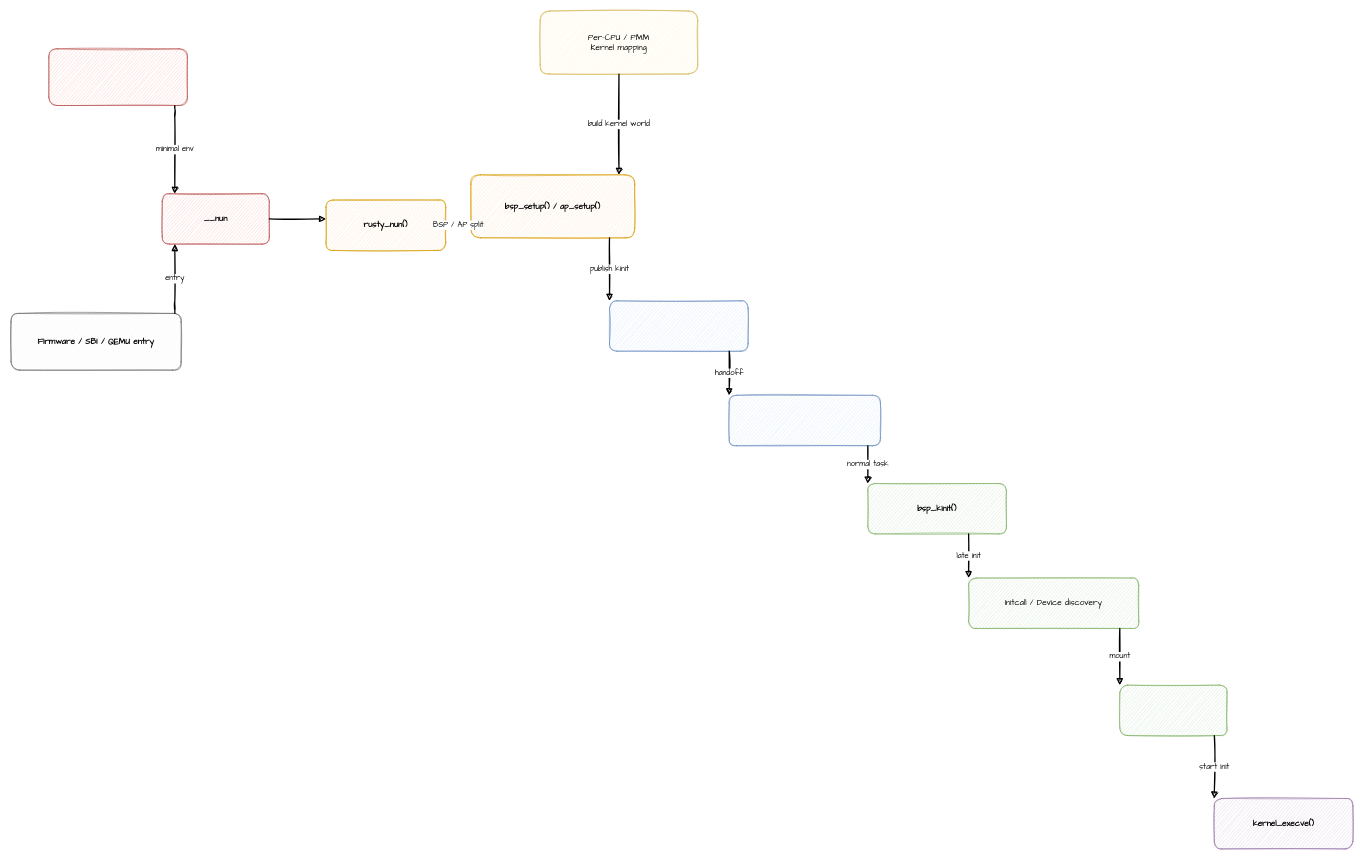
The diagram is 1364 pixels wide and 860 high, and some of its shapes have lost their labels. The centre of each missing label's shape, as x and y in pixels:
"Bootstrap stack page table" goes at [117,77].
"Rootfs" goes at [1173,710].
"RunQueue / Scheduler" goes at [804,420].
"Task::new_kernel*()" goes at [678,325].
